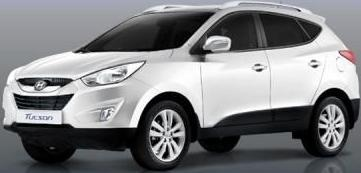front_view: (4, 58, 147, 131)
headlight: (79, 62, 148, 90)
side_glass: (188, 8, 323, 60)
